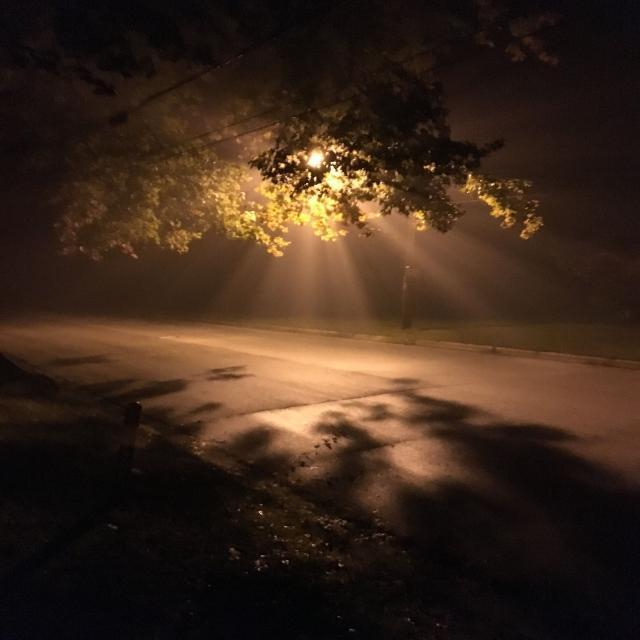on: (281, 134, 371, 184)
